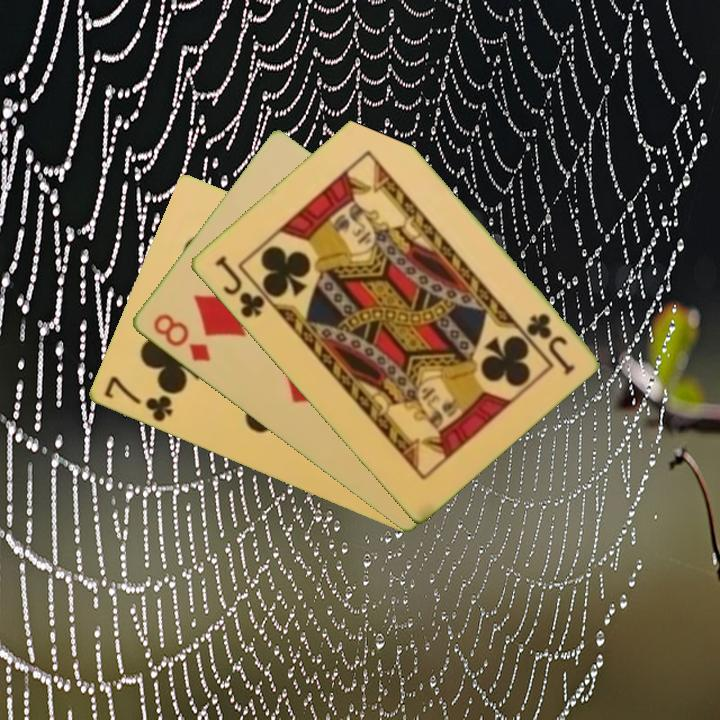7c: (99, 373, 175, 425)
8d: (149, 310, 213, 365)
Jc: (211, 251, 268, 321), (522, 309, 577, 378)
